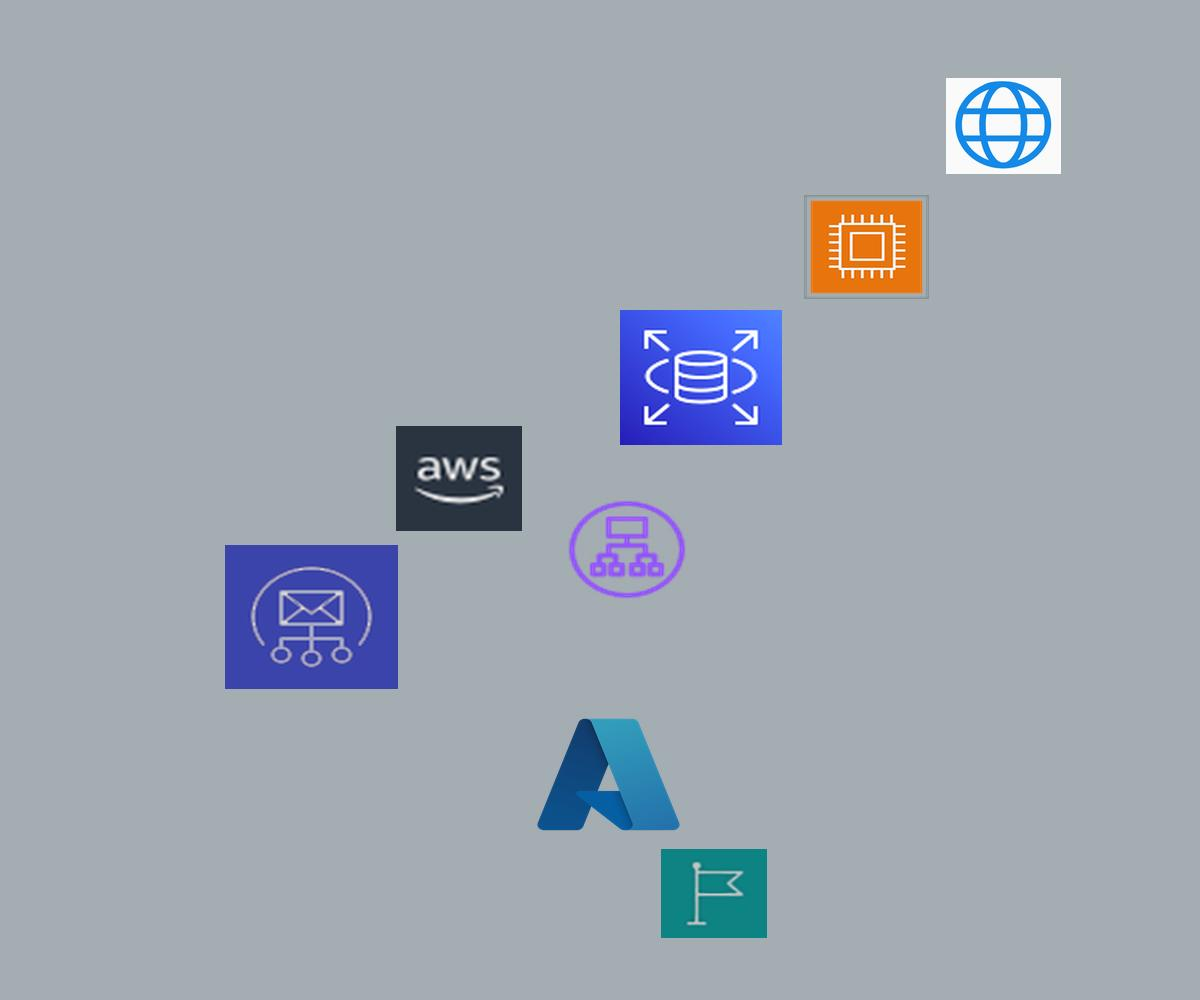AWS-Category_Compute: (804, 195, 929, 299)
AWS-Cloud-logo: (396, 426, 522, 531)
AWS-RDS: (620, 310, 782, 445)
AWS-Region: (661, 849, 767, 938)
AWS-Res_Elastic-Load-Balancing_Application-Load-Balancer: (564, 497, 690, 602)
AWS-Simple-Email-Service: (225, 545, 398, 689)
Azure_http: (946, 78, 1061, 174)
Azure_services: (531, 710, 686, 839)
